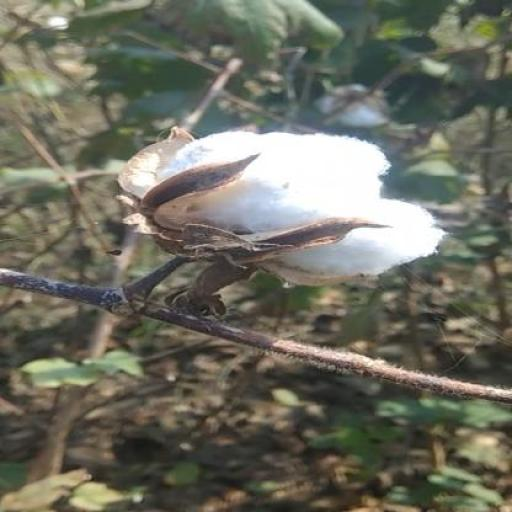cotton_ready: (99, 111, 438, 374)
